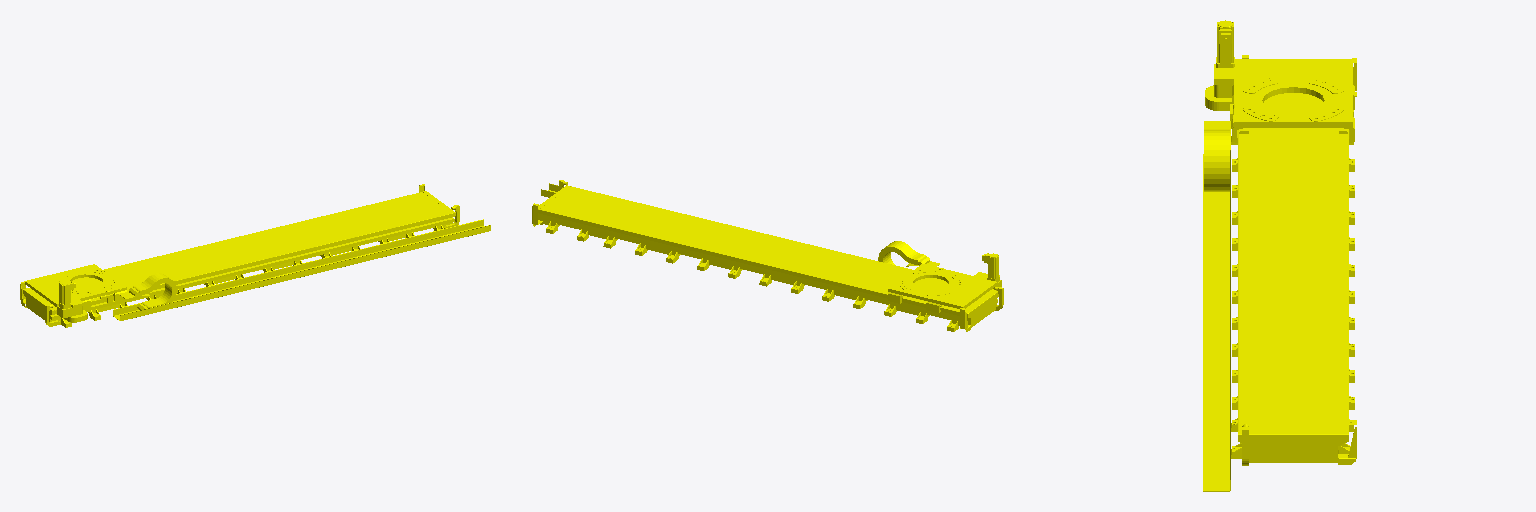
URDF robot description (abb_irb6640_185_280):
<?xml version="1.0" ?>
<!-- =================================================================================== -->
<!-- |    This document was autogenerated by xacro from irb6640_185_280.xacro          | -->
<!-- |    EDITING THIS FILE BY HAND IS NOT RECOMMENDED                                 | -->
<!-- =================================================================================== -->
<robot name="abb_irb6640_185_280">

  <!-- world link -->
  <!-- <link name="world"/> -->
  <!-- Track link -->
  <link name="track">
    <collision name="collision">
      <geometry>
        <mesh filename="package://abb_irb6640_support/meshes/irb6640_185_280/collision/abb_irb6640_track.stl"/>
      </geometry>
    </collision>
    <visual name="visual">
      <geometry>
        <mesh filename="package://abb_irb6640_support/meshes/irb6640_185_280/visual/abb_irb6640_track.stl"/>
      </geometry>
      <material name="yellow">
        <color rgba="1 1 0 1"/>
      </material>
    </visual>
  </link>
  <!-- track loader link-->
  <link name="track_loader">
    <collision name="collision">
      <geometry>
        <mesh filename="package://abb_irb6640_support/meshes/irb6640_185_280/collision/abb_irb6640_link1_track_loader.stl"/>
      </geometry>
    </collision>
    <visual name="visual">
      <geometry>
        <mesh filename="package://abb_irb6640_support/meshes/irb6640_185_280/visual/abb_irb6640_link1_track_loader.stl"/>
      </geometry>
      <material name="yellow">
        <color rgba="1 1 0 1"/>
      </material>
    </visual>
  </link>

  <!-- IRB6640 link list -->
  <link name="base_link">
    <collision name="collision">
      <geometry>
        <mesh filename="package://abb_irb6640_support/meshes/irb6640_185_280/collision/base_link.stl"/>
      </geometry>
    </collision>
    <visual name="visual">
      <geometry>
        <mesh filename="package://abb_irb6640_support/meshes/irb6640_185_280/visual/base_link.dae"/>
      </geometry>
      <material name="yellow">
        <color rgba="1 1 0 1"/>
      </material>
    </visual>
  </link>
  <link name="link_1">
    <collision name="collision">
      <geometry>
        <mesh filename="package://abb_irb6640_support/meshes/irb6640_185_280/collision/link_1.stl"/>
      </geometry>
    </collision>
    <visual name="visual">
      <geometry>
        <mesh filename="package://abb_irb6640_support/meshes/irb6640_185_280/visual/link_1.dae"/>
      </geometry>
      <material name="yellow"/>
    </visual>
  </link>
  <link name="link_2">
    <collision name="collision">
      <geometry>
        <mesh filename="package://abb_irb6640_support/meshes/irb6640_185_280/collision/link_2.stl"/>
      </geometry>
    </collision>
    <visual name="visual">
      <geometry>
        <mesh filename="package://abb_irb6640_support/meshes/irb6640_185_280/visual/link_2.dae"/>
      </geometry>
      <material name="yellow"/>
    </visual>
  </link>
  <link name="link_3">
    <collision name="collision">
      <geometry>
        <mesh filename="package://abb_irb6640_support/meshes/irb6640_185_280/collision/link_3.stl"/>
      </geometry>
    </collision>
    <visual name="visual">
      <geometry>
        <mesh filename="package://abb_irb6640_support/meshes/irb6640_185_280/visual/link_3.dae"/>
      </geometry>
      <material name="yellow"/>
    </visual>
  </link>
  <link name="link_4">
    <collision name="collision">
      <geometry>
        <mesh filename="package://abb_irb6640_support/meshes/irb6640_185_280/collision/link_4.stl"/>
      </geometry>
    </collision>
    <visual name="visual">
      <geometry>
        <mesh filename="package://abb_irb6640_support/meshes/irb6640_185_280/visual/link_4.dae"/>
      </geometry>
      <material name="yellow"/>
    </visual>
  </link>
  <link name="link_5">
    <collision name="collision">
      <geometry>
        <mesh filename="package://abb_irb6640_support/meshes/irb6640_185_280/collision/link_5.stl"/>
      </geometry>
    </collision>
    <visual name="visual">
      <geometry>
        <mesh filename="package://abb_irb6640_support/meshes/irb6640_185_280/visual/link_5.dae"/>
      </geometry>
      <material name="yellow"/>
    </visual>
  </link>
  <link name="link_6">
    <collision name="collision">
      <geometry>
        <mesh filename="package://abb_irb6640_support/meshes/irb6640_185_280/collision/link_6.stl"/>
      </geometry>
    </collision>
    <visual name="visual">
      <geometry>
        <mesh filename="package://abb_irb6640_support/meshes/irb6640_185_280/visual/link_6.dae"/>
      </geometry>
      <material name="yellow"/>
    </visual>
  </link>
  <link name="tool0"/>
  <!--Cylinder and piston -->
  <link name="link_cylinder">
    <collision name="collision">
      <geometry>
        <mesh filename="package://abb_irb6640_support/meshes/irb6640_185_280/collision/cylinder_link.stl"/>
      </geometry>
    </collision>
    <visual name="visual">
      <geometry>
        <mesh filename="package://abb_irb6640_support/meshes/irb6640_185_280/visual/cylinder_link.dae"/>
      </geometry>
      <material name="yellow"/>
    </visual>
  </link>
  <link name="link_piston">
    <collision name="collision">
      <geometry>
        <mesh filename="package://abb_irb6640_support/meshes/irb6640_185_280/collision/piston_link.stl"/>
      </geometry>
    </collision>
    <visual name="visual">
      <geometry>
        <mesh filename="package://abb_irb6640_support/meshes/irb6640_185_280/visual/piston_link.dae"/>
      </geometry>
      <material name="yellow"/>
    </visual>
  </link>
  <!-- end of link list -->
  <!-- Track joint list -->
  <!-- end of track joint list -->
  <!-- <joint name="track_link1" type="fixed">
    <origin rpy="0 0 0" xyz="4 0 0"/>
    <axis xyz="0 0 0"/>
    <parent link="Track_link1"/>
    <child link="base_link"/>
    <limit effort="0" lower="0" upper="3" velocity="1"/>
  </joint> -->
  <!-- IRB6640 joint list -->
  <joint name="joint_1" type="revolute">
    <origin rpy="0 0 0" xyz="0 0 0.780"/>
    <axis xyz="0 0 1"/>
    <parent link="base_link"/>
    <child link="link_1"/>
    <limit effort="0" lower="-2.967" upper="2.967" velocity="1.7453"/>
  </joint>
  <joint name="joint_2" type="revolute">
    <origin rpy="0 0 0" xyz="0.320 0 0"/>
    <axis xyz="0 1 0"/>
    <parent link="link_1"/>
    <child link="link_2"/>
    <limit effort="0" lower="-1.134" upper="1.4855" velocity="1.5707"/>
  </joint>
  <joint name="joint_3" type="revolute">
    <origin rpy="0 0 0" xyz="0 0 1.075"/>
    <axis xyz="0 1 0"/>
    <parent link="link_2"/>
    <child link="link_3"/>
    <limit effort="0" lower="-3.142" upper="1.222" velocity="1.5707"/>
  </joint>
  <joint name="joint_4" type="revolute">
    <origin rpy="0 0 0" xyz="0 0 0.2"/>
    <axis xyz="1 0 0"/>
    <parent link="link_3"/>
    <child link="link_4"/>
    <limit effort="0" lower="-5.236" upper="5.236" velocity="2.9671"/>
  </joint>
  <joint name="joint_5" type="revolute">
    <origin rpy="0 0 0" xyz="1.392 0 0 "/>
    <axis xyz="0 1 0"/>
    <parent link="link_4"/>
    <child link="link_5"/>
    <limit effort="0" lower="-2.094" upper="2.094" velocity="2.4435"/>
  </joint>
  <joint name="joint_6" type="revolute">
    <origin rpy="0 0 0" xyz="0.2 0 0 "/>
    <axis xyz="1 0 0"/>
    <parent link="link_5"/>
    <child link="link_6"/>
    <limit effort="0" lower="-6.283" upper="6.283" velocity="3.3161"/>
  </joint>
  <joint name="joint_6-tool0" type="fixed">
    <parent link="link_6"/>
    <child link="tool0"/>
    <origin rpy="0 1.57079632679 0" xyz="0 0 0"/>
  </joint>
  <joint name="joint_cylinder" type="continuous">
    <origin rpy="0 0 0" xyz="-0.3647 0 -0.1455"/>
    <axis xyz="0 1 0"/>
    <parent link="link_1"/>
    <child link="link_cylinder"/>
    <mimic joint="joint_2" multiplier="-0.25"/>
  </joint>
  <joint name="joint_piston" type="continuous">
    <origin rpy="0 0 0" xyz="-0.22 0 -0.0672"/>
    <axis xyz="0 1 0"/>
    <parent link="link_2"/>
    <child link="link_piston"/>
    <mimic joint="joint_2" multiplier="-1.25"/>
  </joint>
  <!-- end of IRB6640 joint list -->
  <!-- ROS base_link to ABB World Coordinates transform -->
  
  <!-- <joint name="base_track" type="fixed">
    <origin rpy="0 0 0" xyz="0 0 0"/>
    <parent link="world"/>
    <child link="track"/>
  </joint> -->

  <joint name="track1" type="prismatic">
    <parent link="track"/>
    <child link="track_loader"/>
    <origin xyz="0 0 0" rpy="0 0 0"/>
    <axis xyz="1 0 0"/> <!-- Movement along the x-axis -->
    <limit lower="0.0" upper="5.69" effort="100" velocity="1.0"/>
  </joint>

  <joint name="loader_base" type="fixed">
    <origin rpy="0 0 0" xyz="0 0 0"/>
    <parent link="track_loader"/>
    <child link="base_link"/>
  </joint>
  
</robot>

--- What the picture shows (computed from the rendered views, not written in the file) ---
3 views of the same robot in one strip: view 1: azimuth 30°, elevation 25°; view 2: azimuth 150°, elevation 25°; view 3: azimuth 270°, elevation 25° (orthographic).
Robot: abb_irb6640_185_280 — 12 links, 11 joints (6 revolute, 2 continuous, 1 prismatic, 2 fixed); root link track; default pose: all joints at 0.
Visible links, largest first — view 1: track, track_loader; view 2: track, track_loader; view 3: track, track_loader.
Link boxes in pixels (left/top/right/bottom): track: left=20, top=184, right=490, bottom=327; track_loader: left=25, top=264, right=176, bottom=322; track: left=532, top=180, right=1003, bottom=331; track_loader: left=878, top=241, right=1001, bottom=312; track: left=1203, top=55, right=1356, bottom=491; track_loader: left=1204, top=20, right=1354, bottom=191.
Size in the robot's own frame: 7.47 by 1.24 by 0.7689 metres.
Meshes: 11 distinct files referenced, 2 mesh visuals loaded (2 binary STL); not drawn: 9 (reference not matched to a file when rendering).